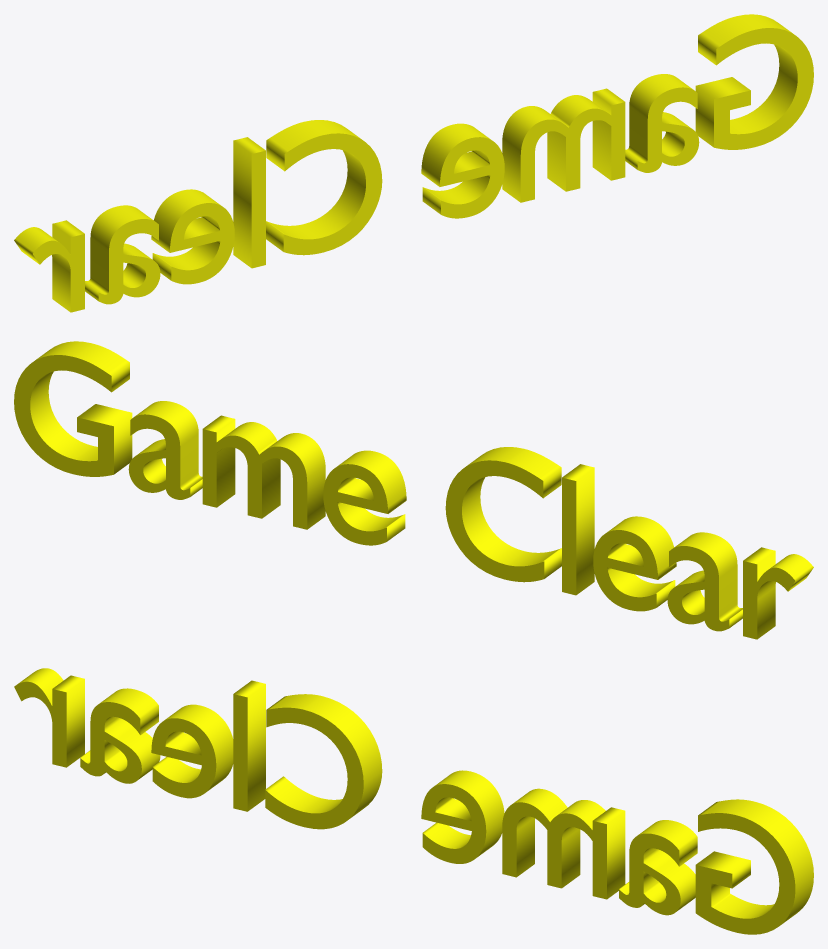
The model's file is GameClear.obj.
3 renders of one model, top to bottom at view 1: azimuth 30°, elevation 25°; view 2: azimuth 150°, elevation 25°; view 3: azimuth 330°, elevation 25°, orthographic.
Parts seen in each view (by area): view 1: テキスト; view 2: テキスト; view 3: テキスト.
Boxes of the visible parts, box(x1,y1,x2,y2) form: テキスト: box(14, 14, 813, 312); テキスト: box(14, 341, 813, 639); テキスト: box(14, 668, 813, 934).
Bounding box in the file's own units: 34.13 × 4.9 × 1.4.
